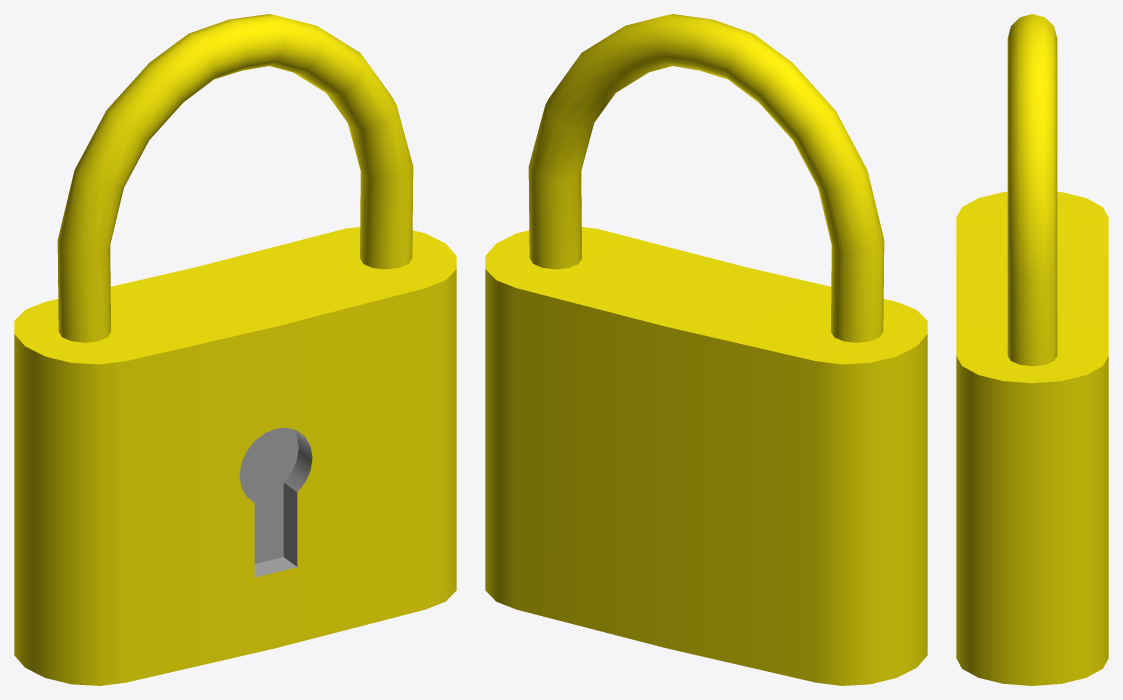
The model's file is LOCK.fbx.
3 views of the same model, side by side, from view 1: azimuth 30°, elevation 25°; view 2: azimuth 150°, elevation 25°; view 3: azimuth 270°, elevation 25° (orthographic). The views are drawn at different scales.
Parts seen in each view (by area): view 1: polySurface1, polySurface2; view 2: polySurface1, polySurface2; view 3: polySurface1, polySurface2.
Part boxes in pixels (x1,y1,x2,y2): polySurface1: [14, 227, 456, 685]; polySurface2: [57, 14, 413, 342]; polySurface1: [485, 227, 927, 685]; polySurface2: [528, 14, 884, 342]; polySurface1: [956, 191, 1108, 685]; polySurface2: [1007, 14, 1057, 366].
Size of the model in its own units: 241 by 327 by 80.37.
